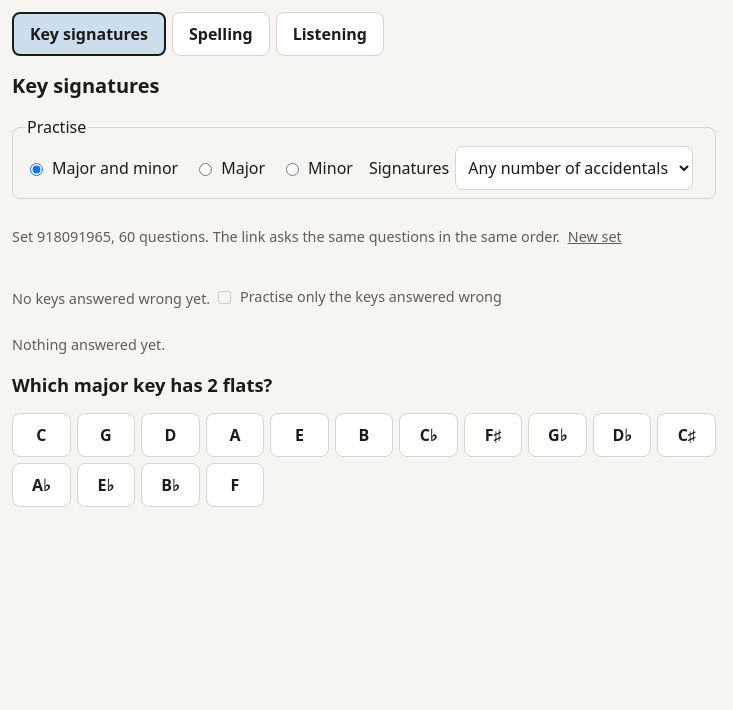
Test case: Quiz: the spelling drill › switches between the two quizzes
Check: the heading "Key signatures" is shown, box [12,72,160,99]
Click the button "Spelling".
click(221, 34)  # box [172,12,270,56]
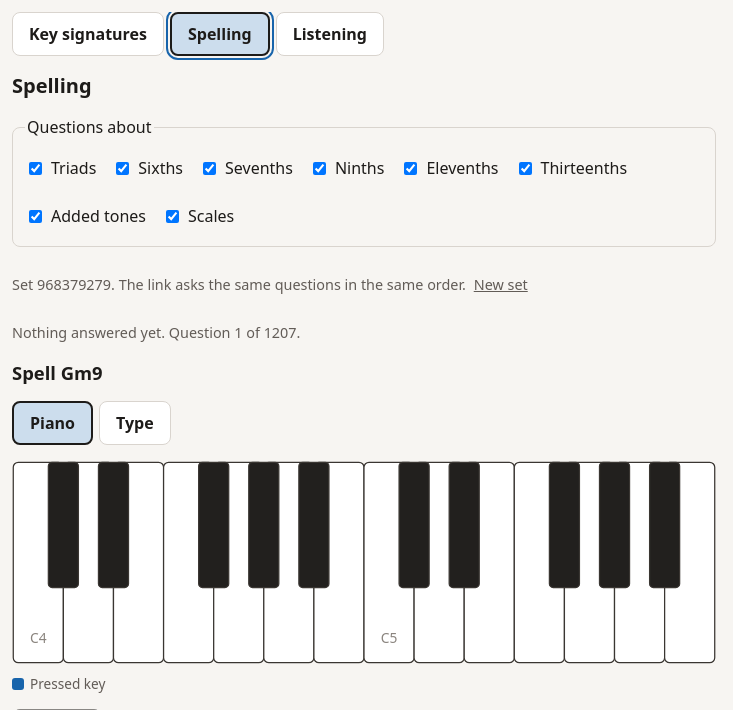
Check: the heading "Spelling" is shown, box [12,72,92,99]
Click the button "Key signatures".
click(88, 34)  # box [12,12,164,56]
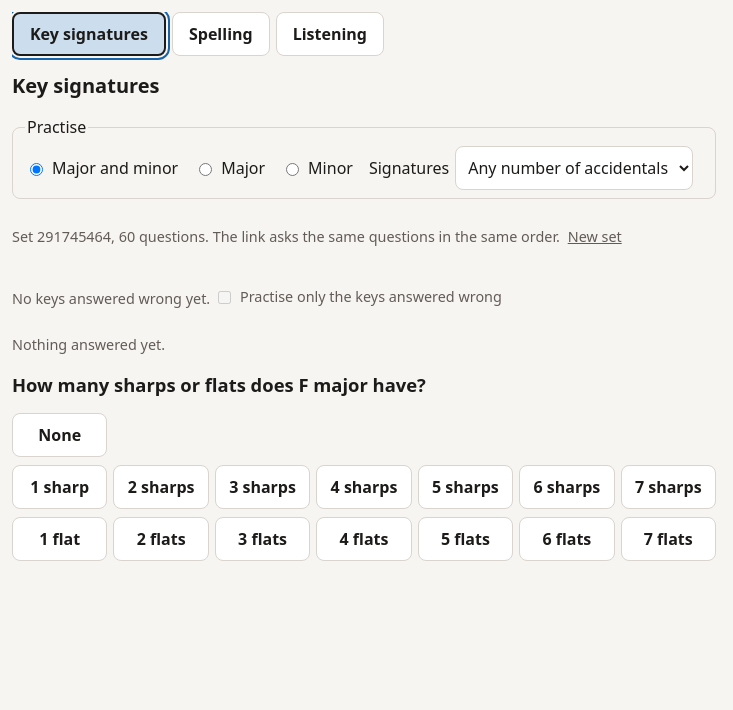
Check: the heading "Key signatures" is shown, box [12,72,160,99]
